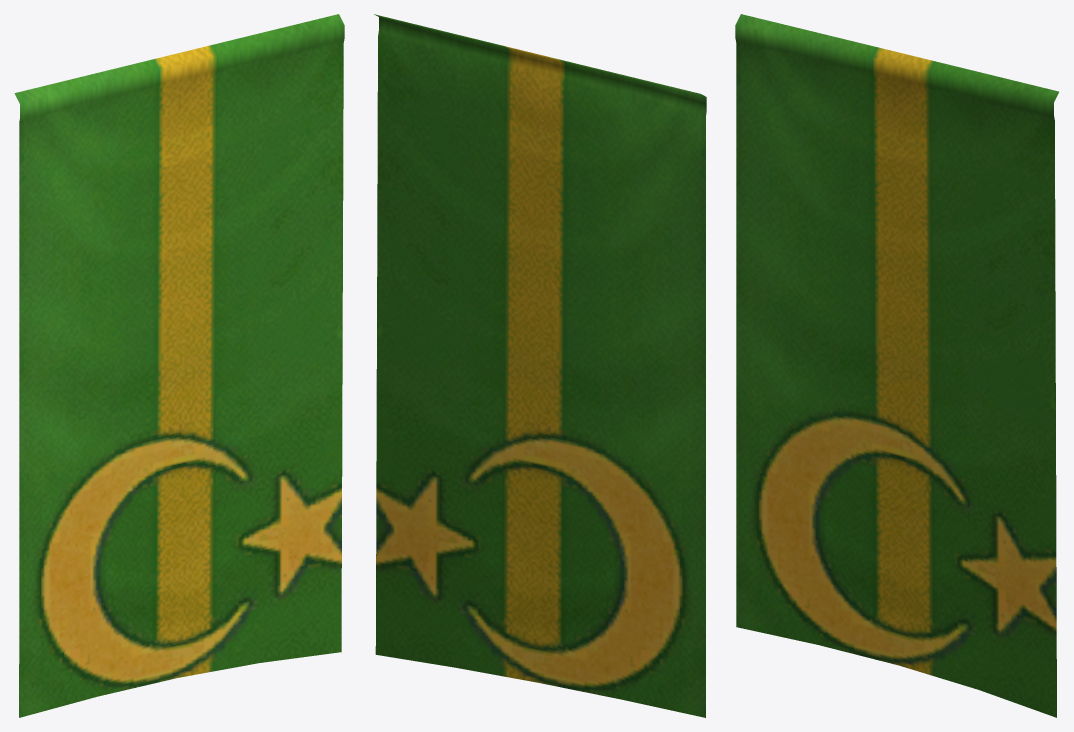
Rendered from turk_banner.obj.
The picture shows the model from 3 angles, left to right: view 1: azimuth 30°, elevation 25°; view 2: azimuth 150°, elevation 25°; view 3: azimuth 330°, elevation 25°; orthographic projection. The views are drawn at different scales.
Visible parts, largest first — view 1: GenMesh.002; view 2: GenMesh.002; view 3: GenMesh.002.
Boxes of the visible parts, x1,y1,x2,y2 form: GenMesh.002: (14,14,344,717); GenMesh.002: (374,14,706,717); GenMesh.002: (735,14,1058,717).
Size of the model in its own units: 1.7 by 3.19 by 0.0519.
